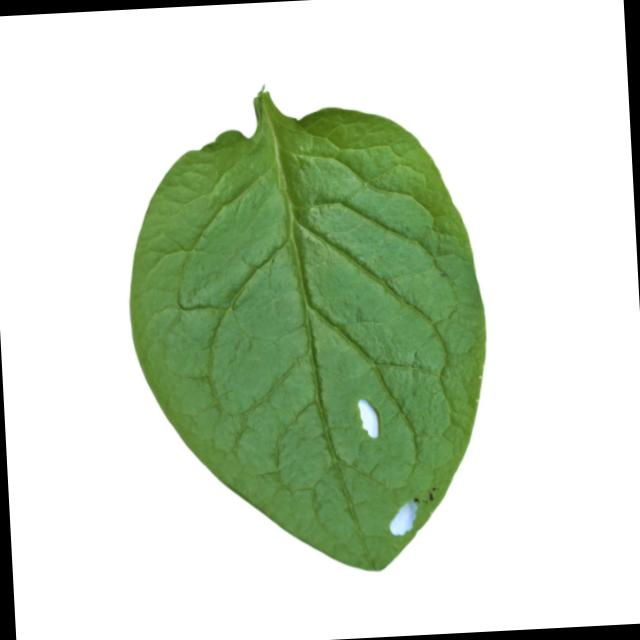Medicinal-Basale: (117, 81, 499, 585)
